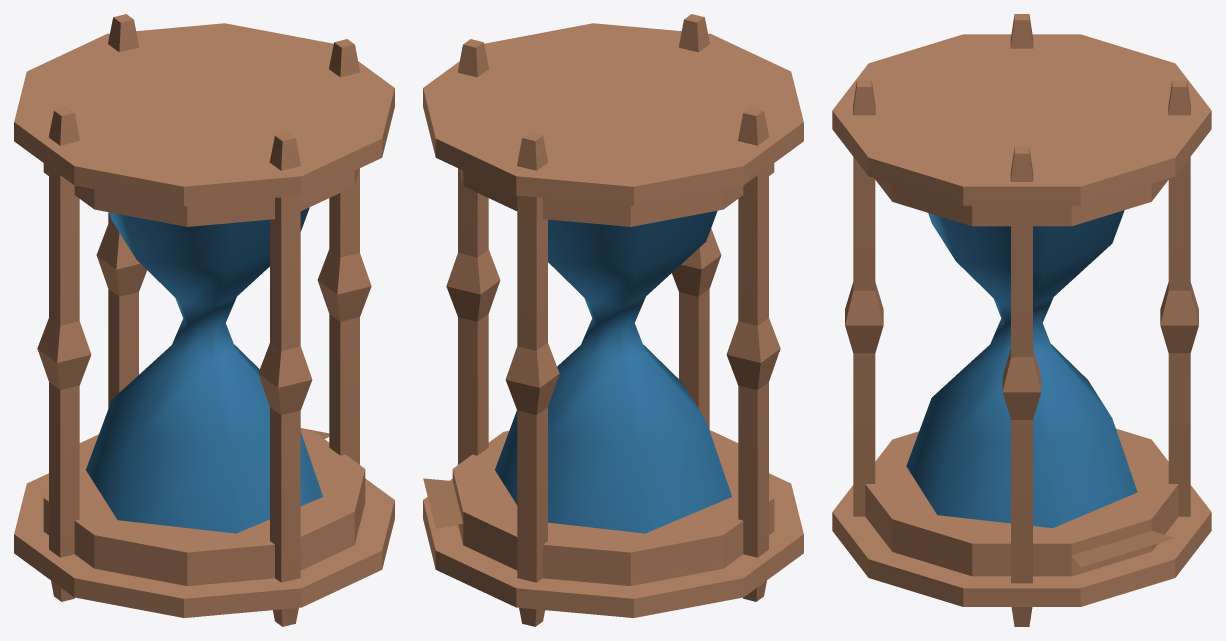
File: Hourglass_B.fbx
3 renders of one model, left to right at view 1: azimuth 30°, elevation 25°; view 2: azimuth 150°, elevation 25°; view 3: azimuth 270°, elevation 25°, orthographic. The views are drawn at different scales.
Visible parts, largest first — view 1: Hourglass_B; view 2: Hourglass_B; view 3: Hourglass_B.
Part boxes in pixels (<box>): Hourglass_B: <box>14,14,394,626</box>; Hourglass_B: <box>423,14,803,626</box>; Hourglass_B: <box>832,14,1211,626</box>.
Bounding box in the file's own units: 23.55 × 34.1 × 24.76.
